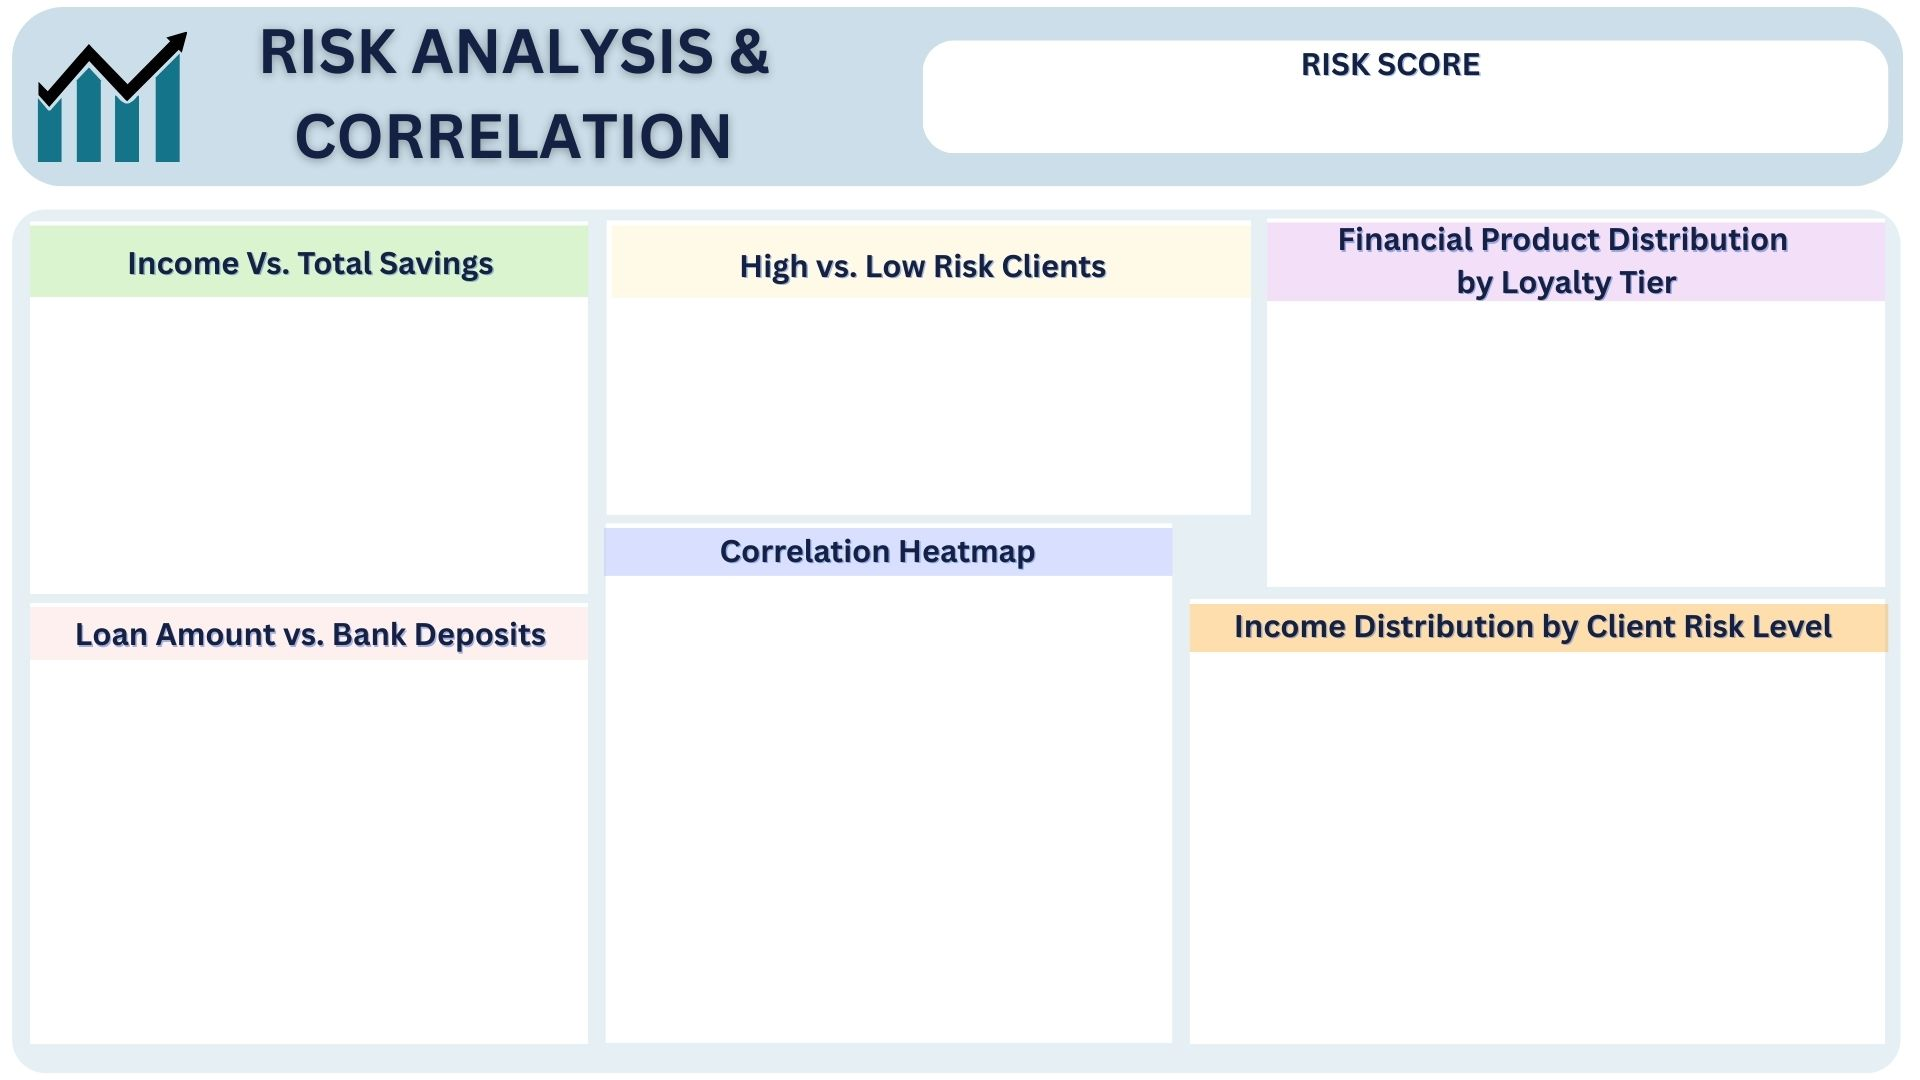

The dashboard page shown, as its layout file describes it:
{"tool":"powerbi","page":{"name":"Risk Analysis","canvas":[1280,720],"ordinal":1},"visuals":[{"type":"slicer","fields":{"Values":["Banking_final.risk_score"]},"box":[629.6,51.3,616.2,50.1],"z":0},{"type":"scatterChart","fields":{"Y":["Calculations.AVG_Total_Savings"],"Size":["Calculations.AVG_total_Loans"],"Series":["Banking_final.income_band"],"X":["Calculations.Average Estimated Income"]},"box":[26.9,196.8,360.6,196.8],"z":1000},{"type":"actionButton","box":[0,0,100,40],"z":2000},{"type":"clusteredColumnChart","fields":{"Category":["Banking_final.risk_level"],"Y":["Sum(Banking_final.total-loans)","Calculations.Toatal_bank_deposits"]},"box":[26.9,443.8,360.6,249.4],"z":3000},{"type":"treemap","fields":{"Group":["Banking_final.risk_level"],"Values":["Calculations.Clients_By_Risk"]},"box":[414.9,196.4,407.5,143.2],"z":4000},{"type":"columnChart","fields":{"Category":["Banking_final.loyalty_classification"],"Y":["Sum(Banking_final.total-loans)","Sum(Banking_final.business_lending)","Sum(Banking_final.checking_accounts)","Sum(Banking_final.saving_accounts)","Sum(Banking_final.foreign_currency_account)","Sum(Banking_final.superannuation_savings)","Sum(Banking_final.credit_card_balance)"]},"box":[859.2,206.7,397.1,186],"z":5000},{"type":"clusteredBarChart","fields":{"Category":["Banking_final.income_band"],"Series":["Banking_final.risk_level"],"Y":["Calculations.Pct_Clients_By_IncomeRisk"]},"box":[789.9,437,466.5,256.9],"z":6000},{"type":"image","box":[207.8,386.7,769.2,307.4],"z":7000}]}

Visuals, with their boxes in screenshot pixels (x1, y1, x2, y2), scaled from the page's 1280x720 canvas onto the 1920x1080 screenshot:
slicer - Banking_final.risk_score: detection(944, 77, 1869, 152)
scatterChart - Calculations.AVG_Total_Savings x Calculations.AVG_total_Loans: detection(40, 295, 581, 590)
actionButton: detection(0, 0, 150, 60)
clusteredColumnChart - Banking_final.risk_level x Sum(Banking_final.total-loans): detection(40, 666, 581, 1040)
treemap - Banking_final.risk_level x Calculations.Clients_By_Risk: detection(622, 295, 1234, 509)
columnChart - Banking_final.loyalty_classification x Sum(Banking_final.total-loans): detection(1289, 310, 1884, 589)
clusteredBarChart - Banking_final.income_band x Banking_final.risk_level: detection(1185, 656, 1885, 1041)
image: detection(312, 580, 1466, 1041)
